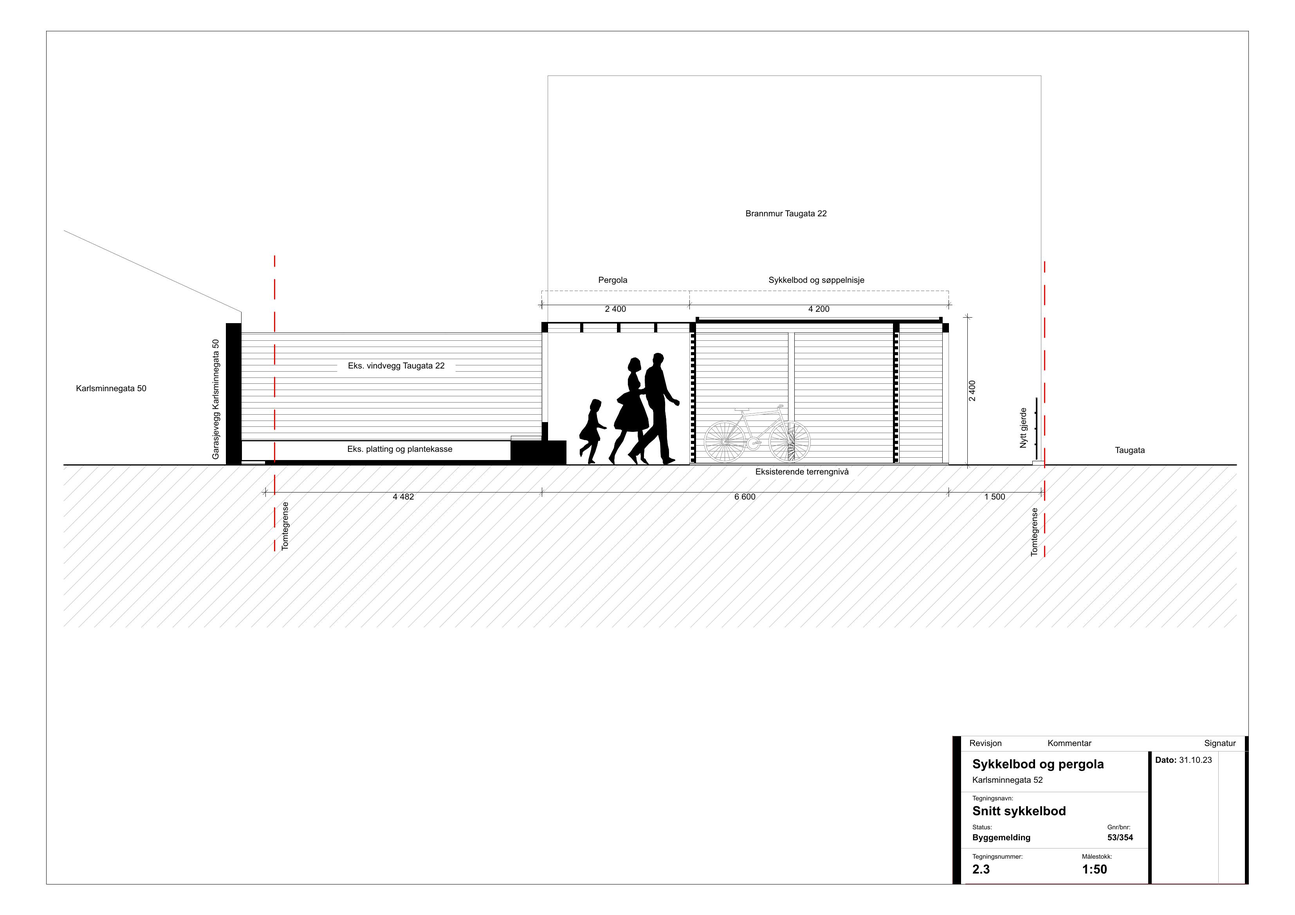snitt: (242, 317, 951, 469)
